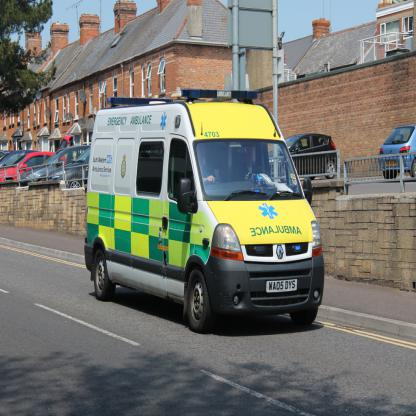Ambulance: (83, 89, 327, 333)
